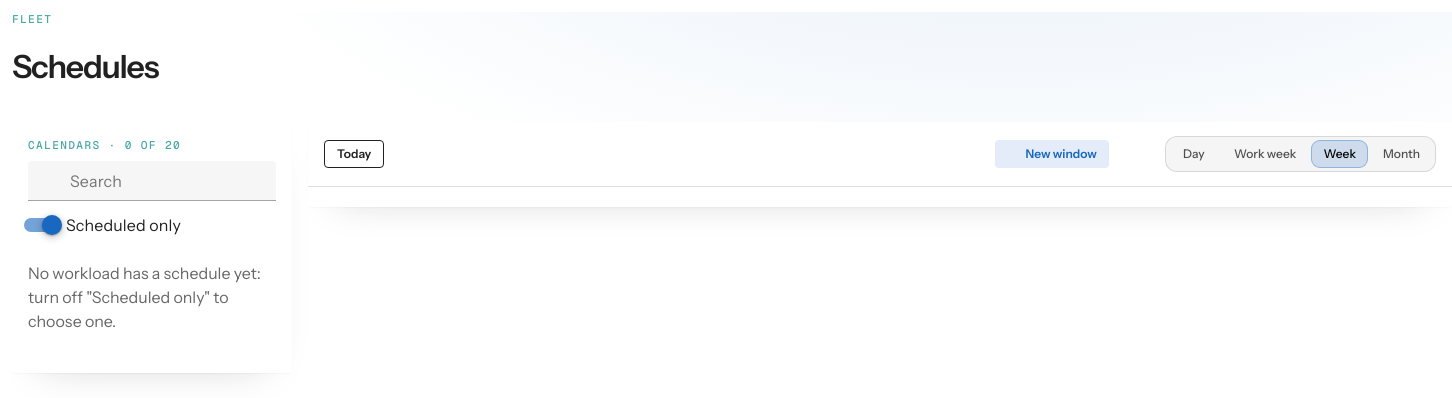
Schedules view: the calendars panel › says "router 0.31.0 needed" for a workload whose own answer has no schedule, when the list gave no router versions
Click the checkbox labelled "Scheduled only" at coordinates (124, 225), box x1=66 y1=215 x2=181 y2=235
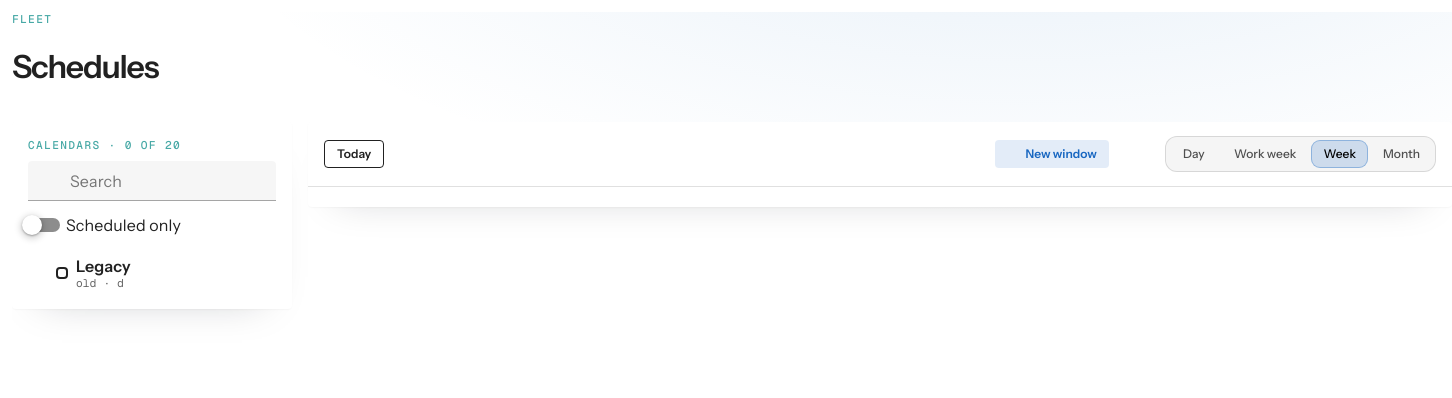
Expected: the element with test id "calendar-old/d" does not show "router 0.31.0 needed"
Click the checkbox labelled "Legacy old · d" at coordinates (93, 273), box x1=56 y1=253 x2=131 y2=293
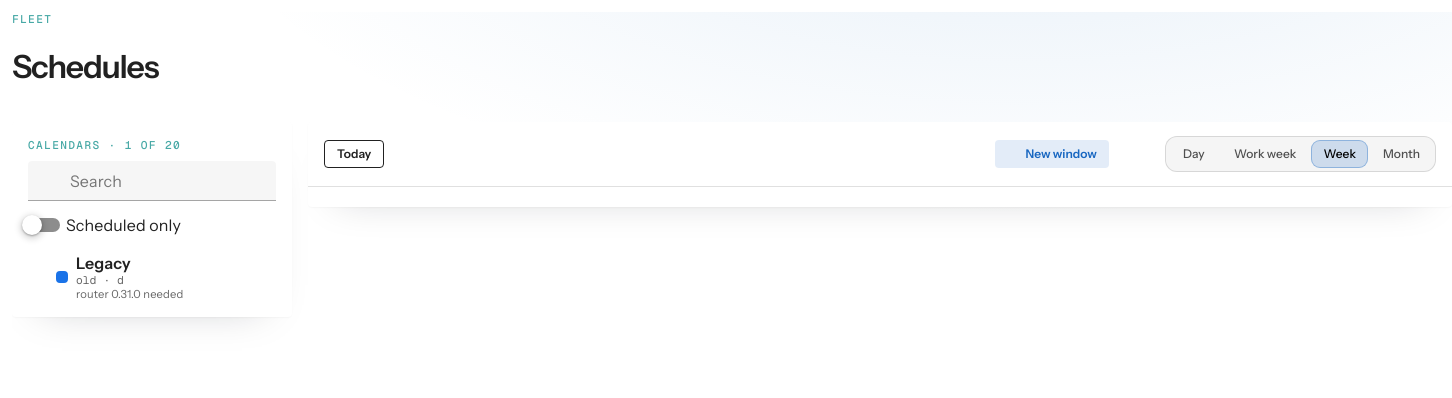
Expected: the checkbox labelled "Legacy old · d router 0.31.0 needed" is enabled, x1=56 y1=253 x2=183 y2=301
Expected: the list item with test id "calendar-old/d" shows "router 0.31.0 needed", x1=76 y1=287 x2=183 y2=301
